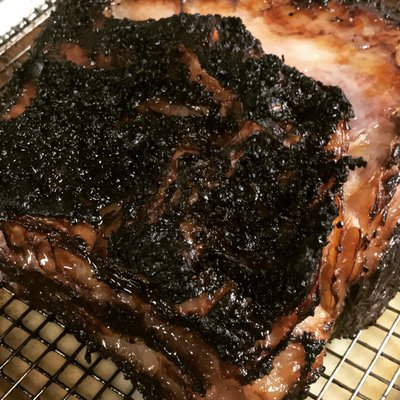burger: (0, 0, 58, 103)
